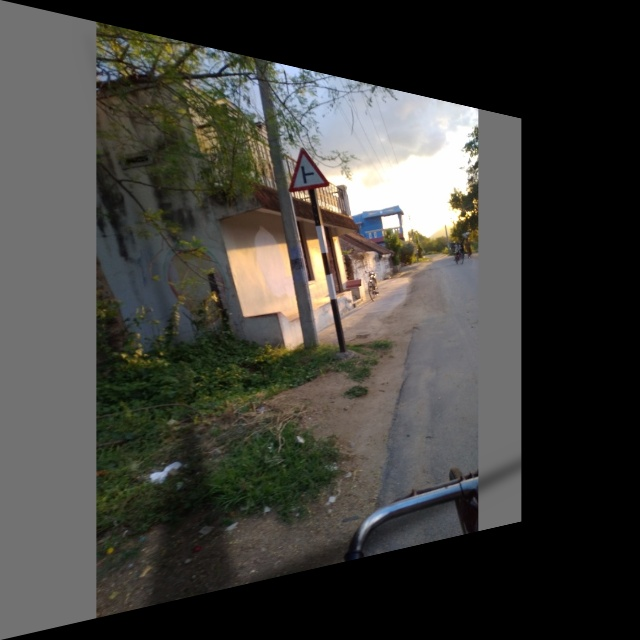Side_Road_Right: (283, 141, 333, 199)
